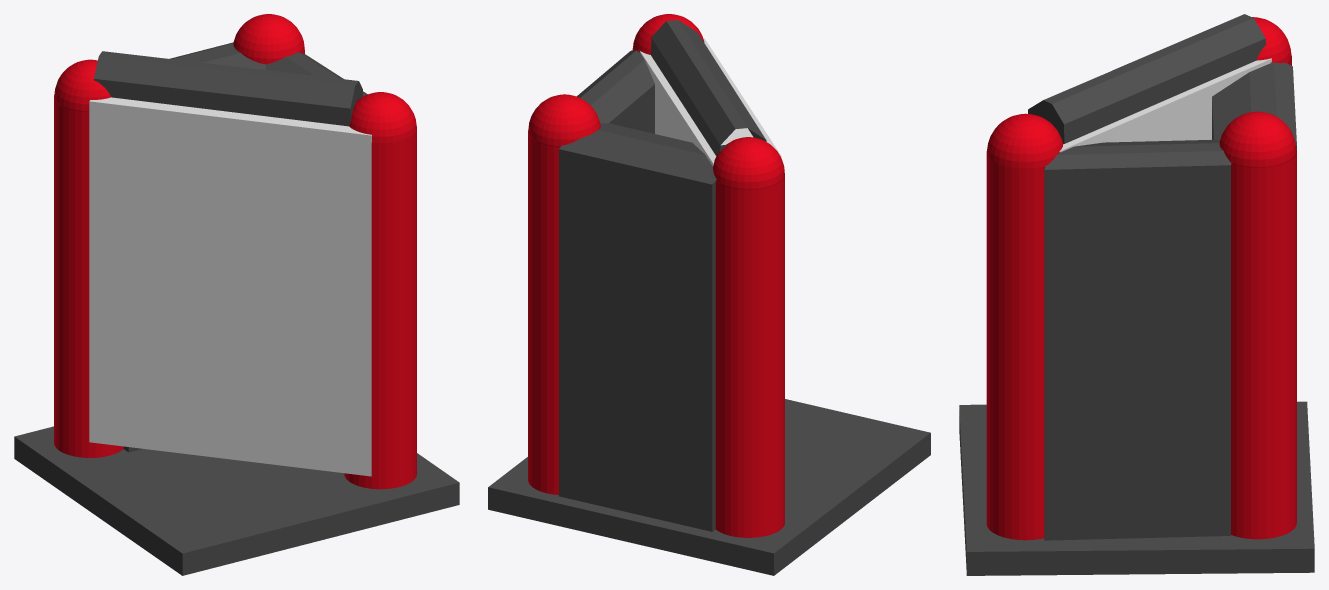
Rendered from shelder.glb.
3 views of the same model, side by side, from view 1: azimuth 30°, elevation 25°; view 2: azimuth 150°, elevation 25°; view 3: azimuth 270°, elevation 25° (orthographic). The views are drawn at different scales.
Visible parts, largest first — view 1: Cube.001, shelder, Cylinder.002, Cylinder, Cube.008_reflect, Sphere.001, Sphere.002, Sphere, Cube.005_vuln, Cube.004_vuln; view 2: Cube.005_vuln, Cylinder, shelder, Cylinder.003, Cube.008_reflect, Cube.004_vuln, Cube.001, Sphere, Sphere.001, Sphere.002; view 3: Cube.004_vuln, Cylinder.003, Cylinder.002, shelder, Cube.008_reflect, Cube.001, Cube.005_vuln, Sphere.001, Sphere.002, Sphere.
Boxes of the visible parts, <box> form: Cube.001: <box>89,97,371,476</box>; shelder: <box>14,426,459,575</box>; Cylinder.002: <box>344,126,416,489</box>; Cylinder: <box>54,95,123,457</box>; Cube.008_reflect: <box>94,51,362,126</box>; Sphere.001: <box>233,14,304,64</box>; Sphere.002: <box>349,92,416,142</box>; Sphere: <box>54,59,110,112</box>; Cube.005_vuln: <box>123,42,265,452</box>; Cube.004_vuln: <box>265,52,367,96</box>; Cube.005_vuln: <box>559,123,716,531</box>; Cylinder: <box>715,173,784,537</box>; shelder: <box>488,399,930,575</box>; Cylinder.003: <box>528,131,559,494</box>; Cube.008_reflect: <box>651,20,766,155</box>; Cube.004_vuln: <box>577,50,654,133</box>; Cube.001: <box>640,38,781,166</box>; Sphere: <box>713,137,784,189</box>; Sphere.001: <box>528,94,600,147</box>; Sphere.002: <box>633,14,704,54</box>; Cube.004_vuln: <box>1044,139,1231,540</box>; Cylinder.003: <box>1231,150,1296,539</box>; Cylinder.002: <box>986,149,1045,540</box>; shelder: <box>959,401,1314,575</box>; Cube.008_reflect: <box>1028,14,1265,143</box>; Cube.001: <box>1059,58,1271,152</box>; Cube.005_vuln: <box>1212,62,1296,150</box>; Sphere.001: <box>1219,111,1296,167</box>; Sphere.002: <box>987,113,1063,168</box>; Sphere: <box>1252,17,1291,63</box>.
Bounding box in the file's own units: 3.46 × 4.74 × 3.46.
